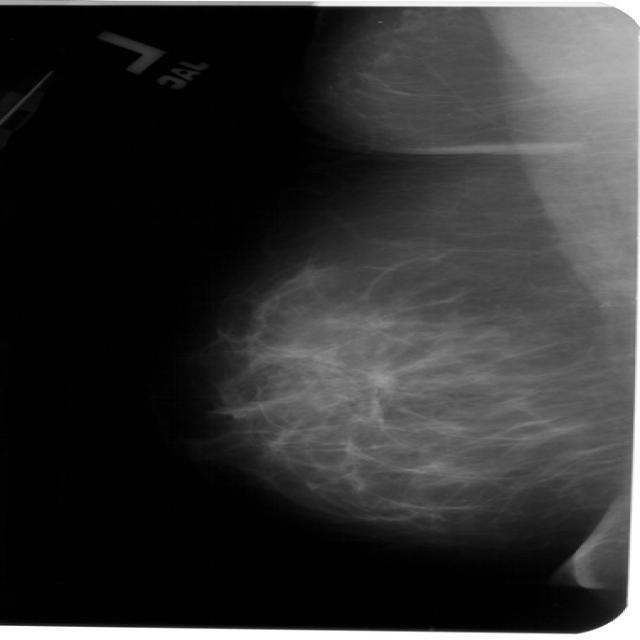tumour: (362, 367, 396, 392)
